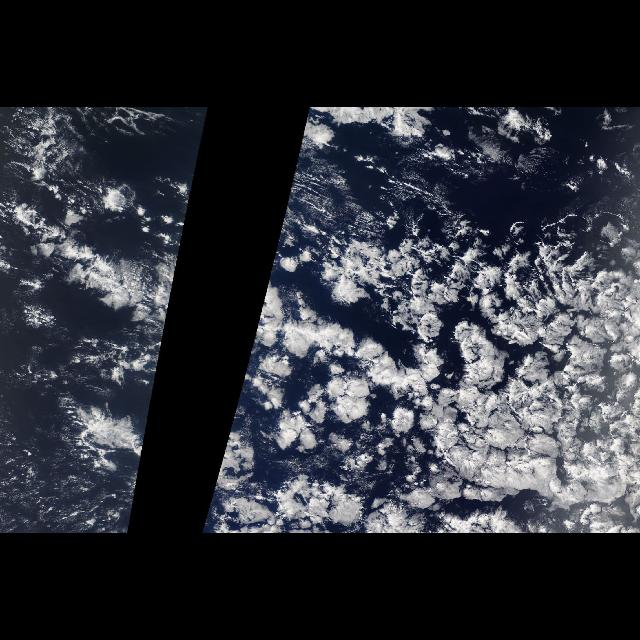Fish: (247, 202, 448, 438), (7, 202, 190, 362)
Flower: (216, 188, 640, 532)
